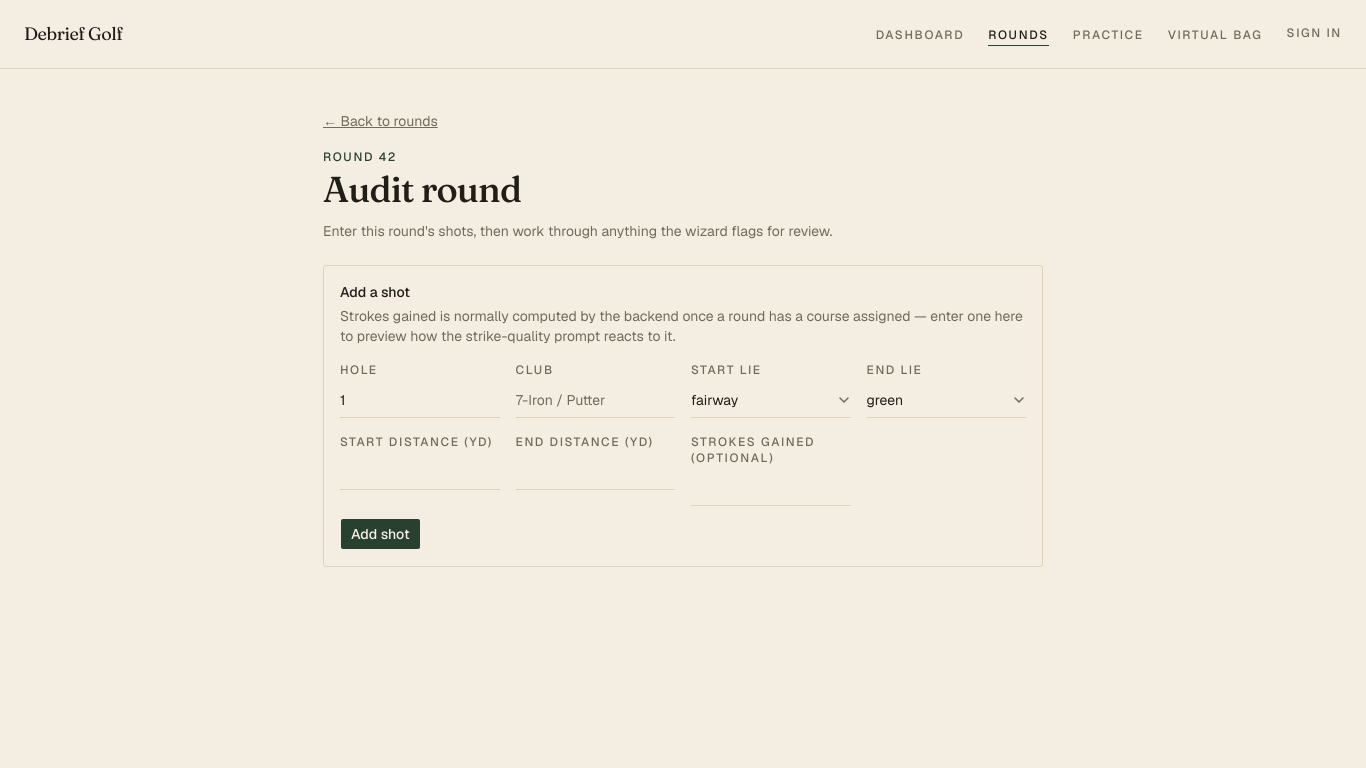
it: RoundAuditPage › lists shots as they're added and shows a start-review button
Type "7-Iron" into the field labelled "Club" at (595, 400), box x1=516 y1=382 x2=675 y2=418
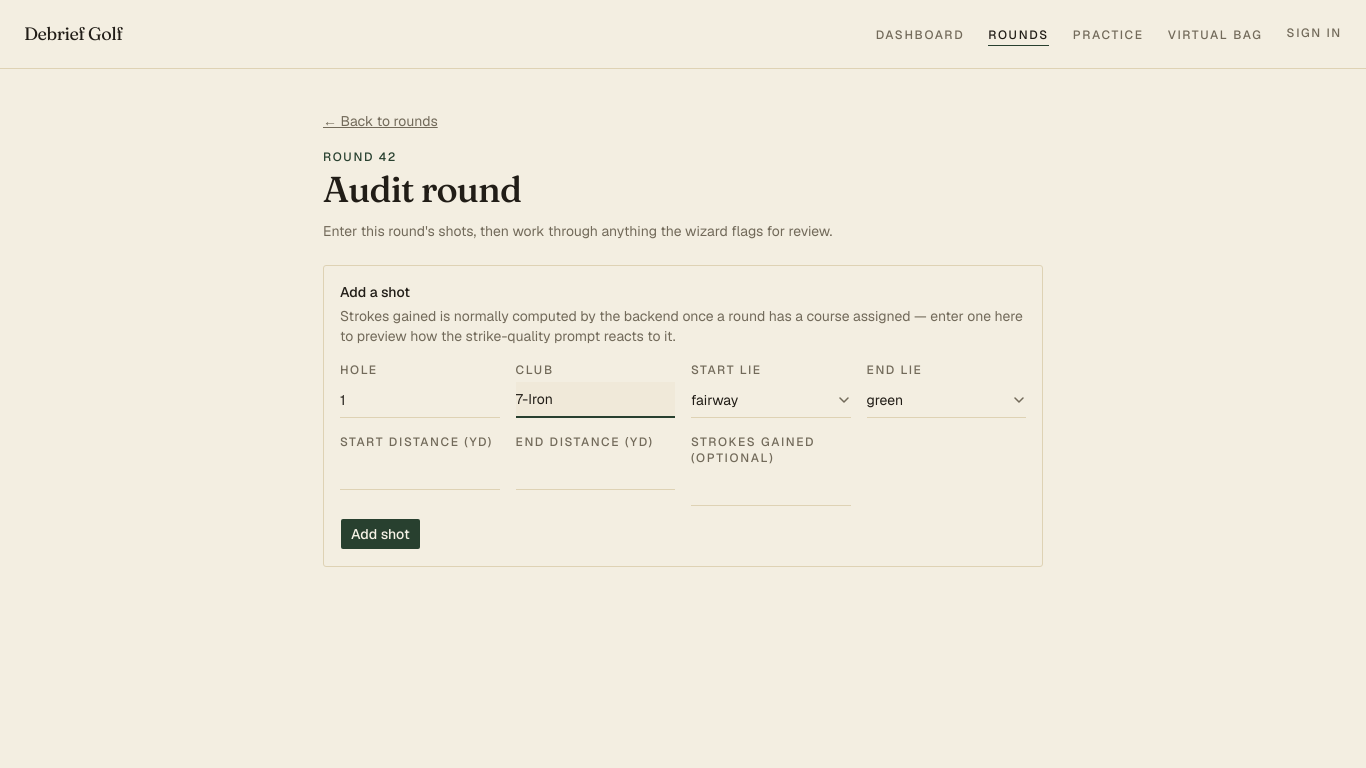
Type "150" into the number field labelled "Start distance (yd)" at (420, 472), box x1=340 y1=454 x2=500 y2=490
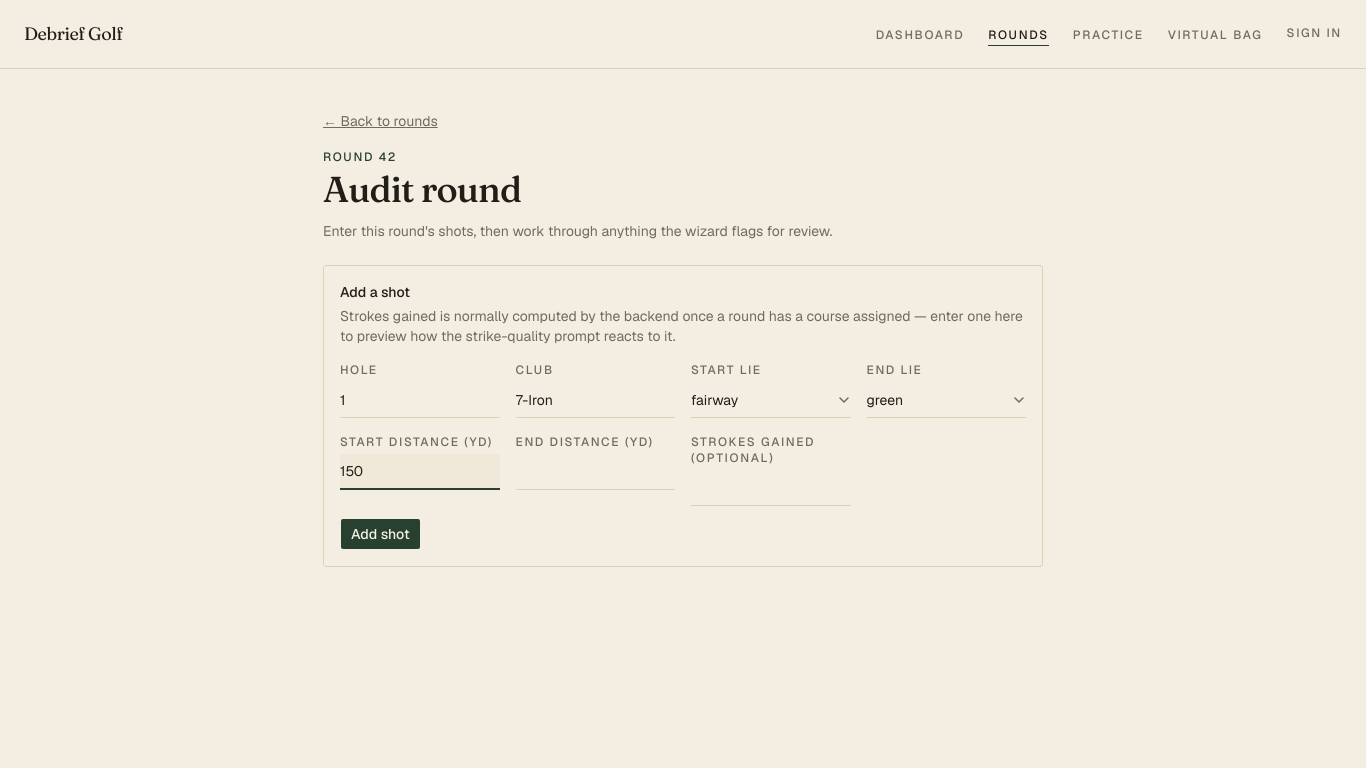
Type "6" into the number field labelled "End distance (yd)" at (595, 472), box x1=516 y1=454 x2=675 y2=490
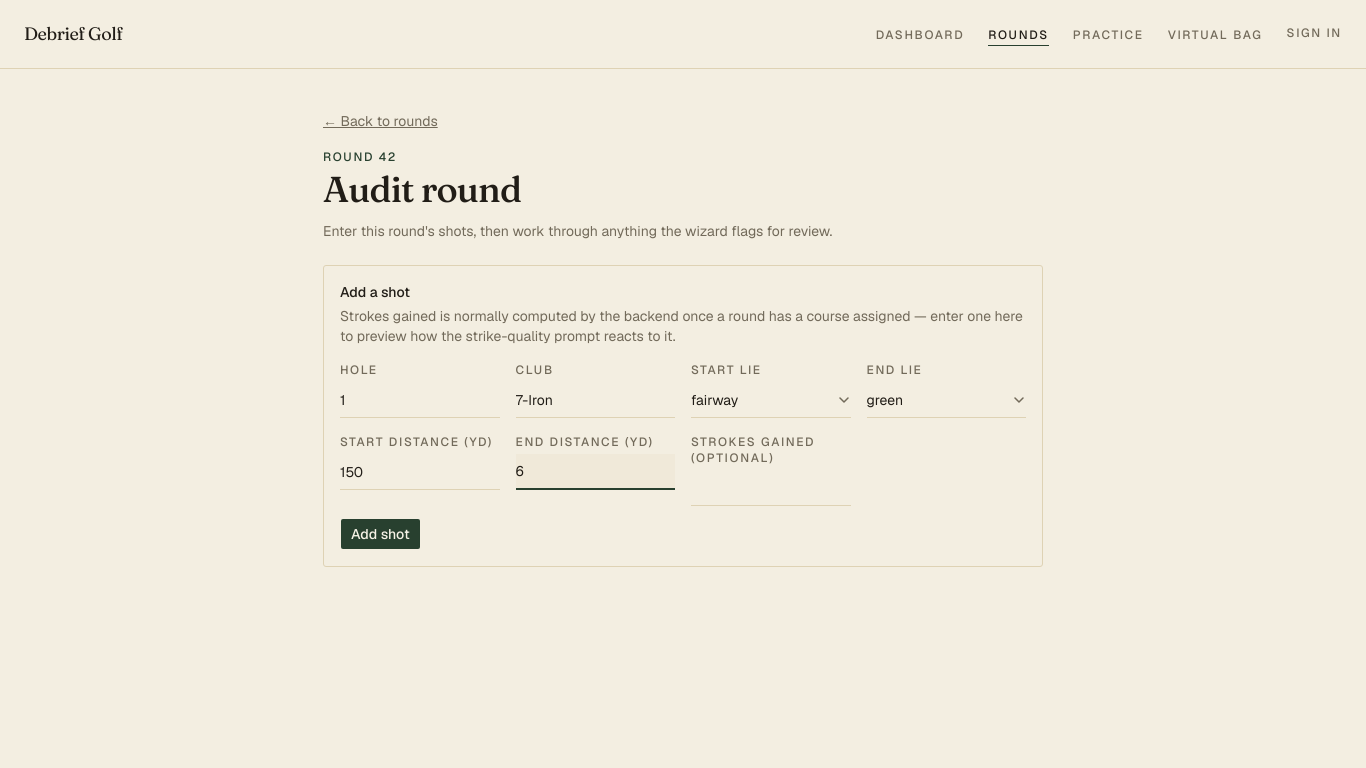
Click the button "Add shot" at (380, 534), box x1=340 y1=518 x2=421 y2=550
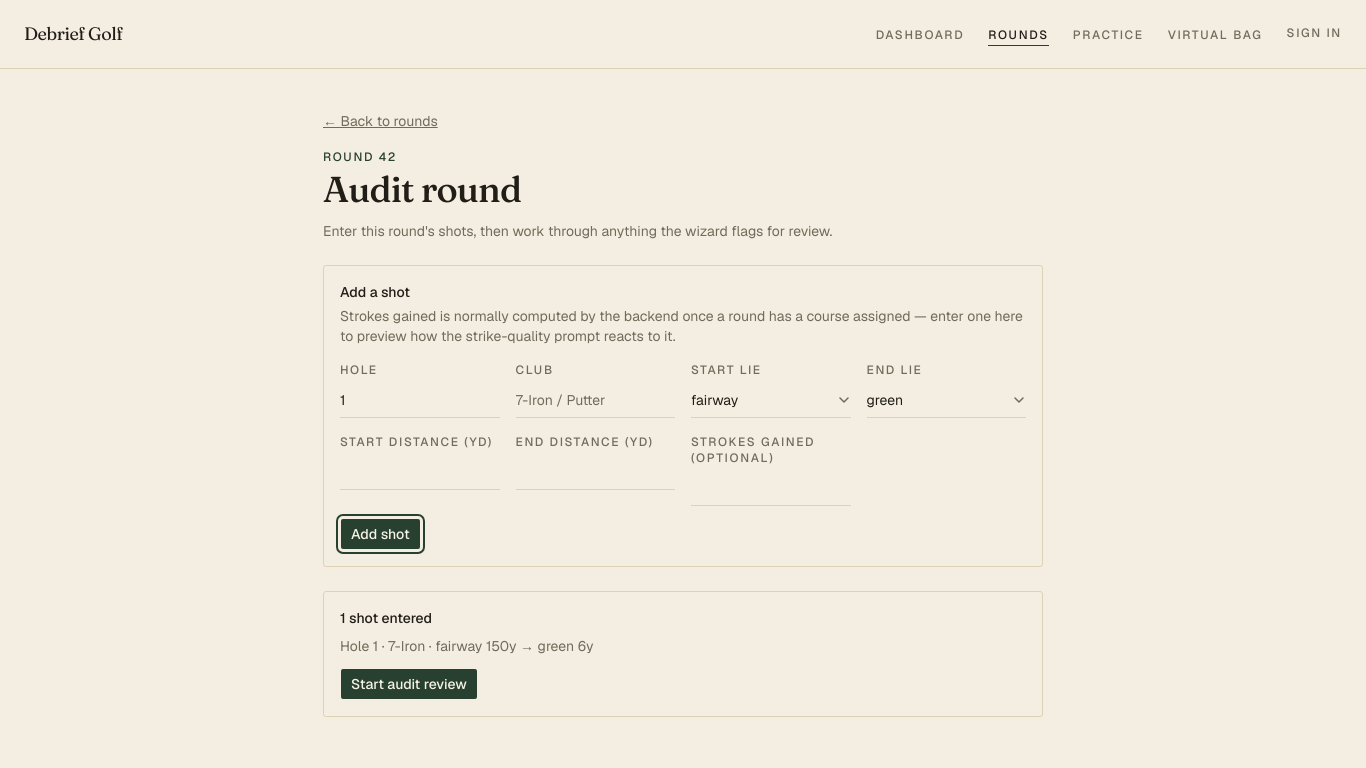
Expected: the text "1 shot entered" is shown, x1=340 y1=609 x2=432 y2=627
Expected: the button "Start audit review" is shown, x1=340 y1=668 x2=478 y2=700
